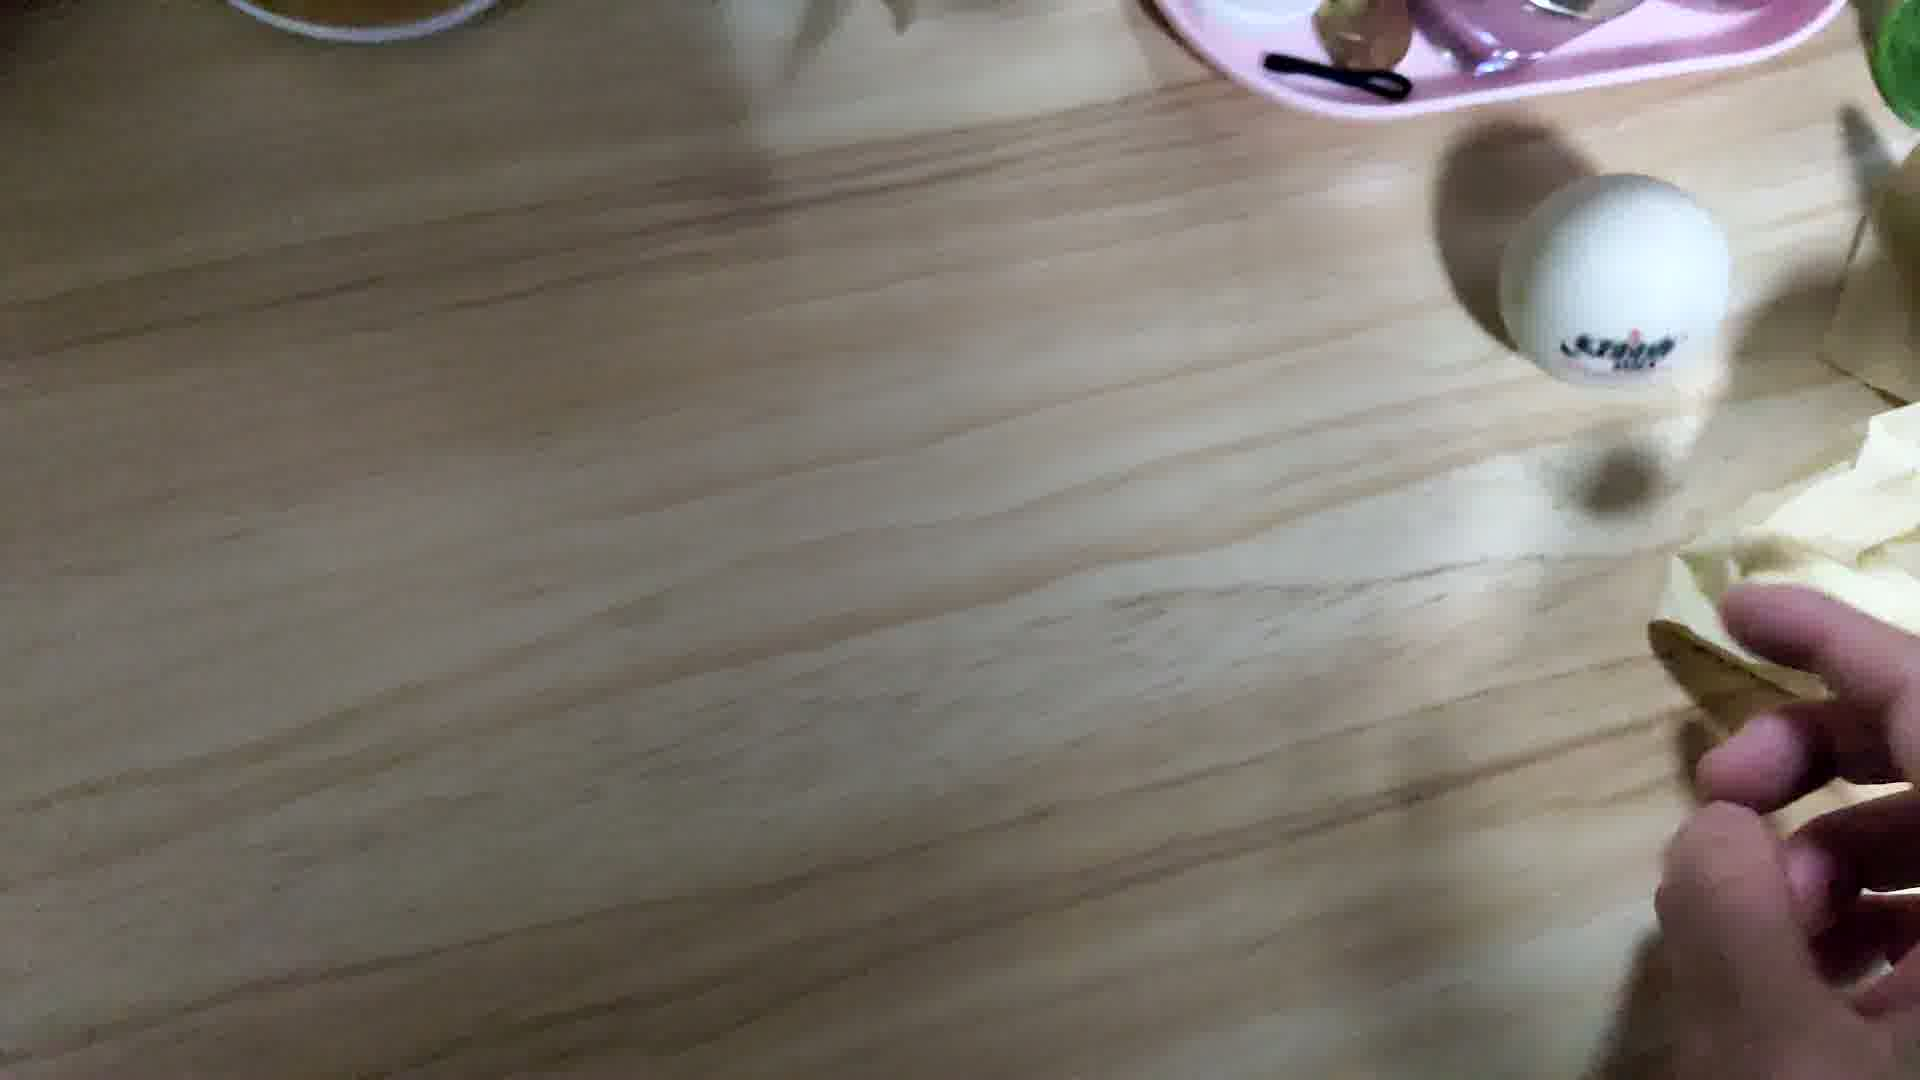Ball: (1501, 171, 1733, 392)
